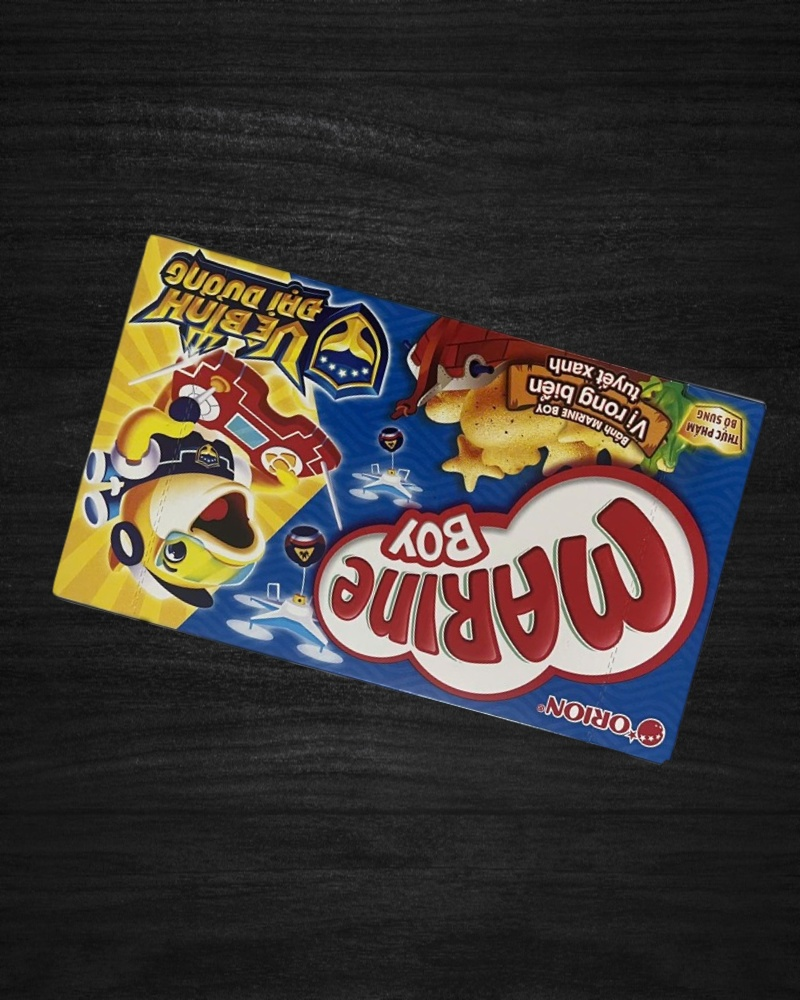Marine: (47, 232, 770, 768)
